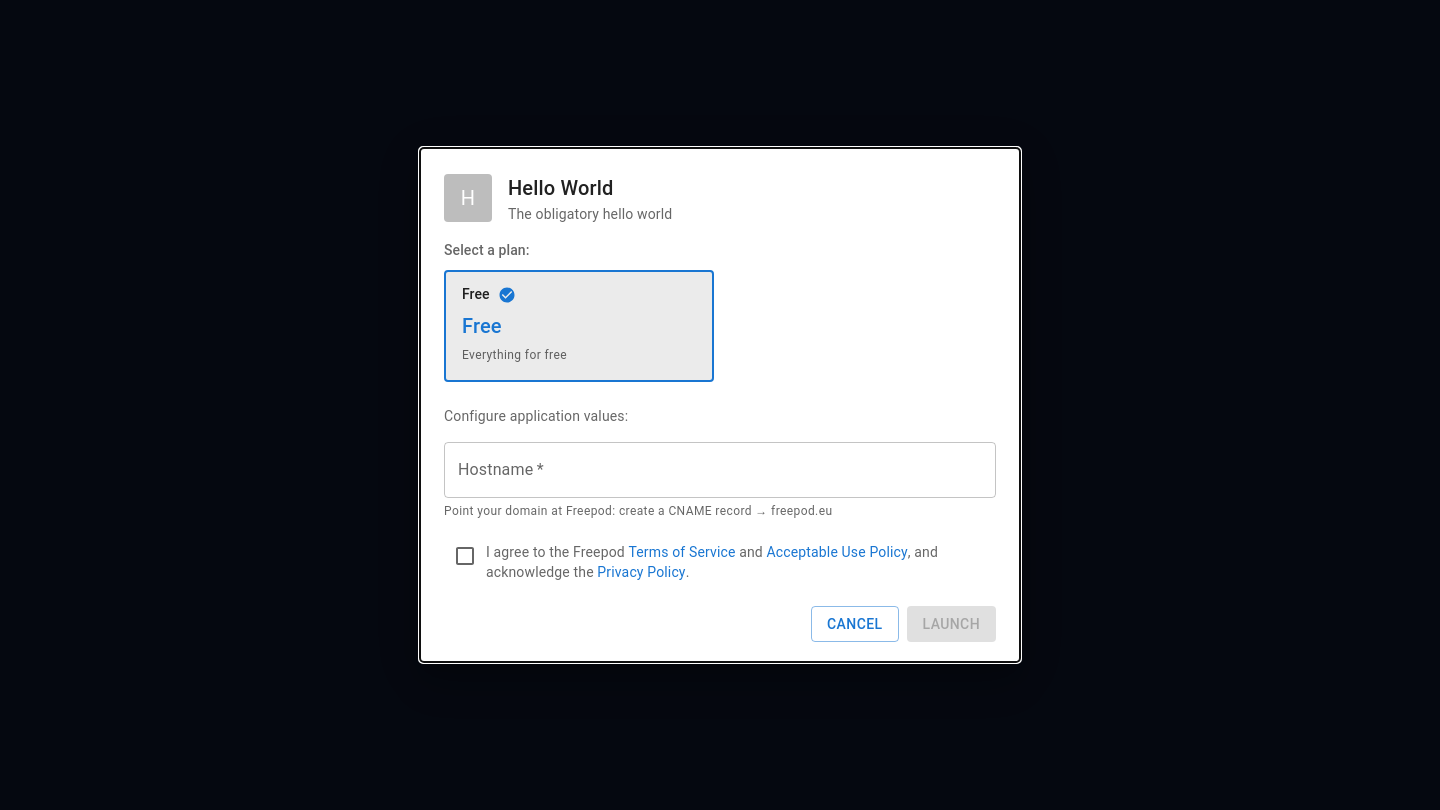
Test: DeployDialog › shows error alert on deployment failure
Expected: the text "Configure application values:" is shown, [444,408,628,424]
Type "test.example.com" into the field labelled "Hostname *".
click(720, 470); type("test.example.com")  # box [444,442,996,498]
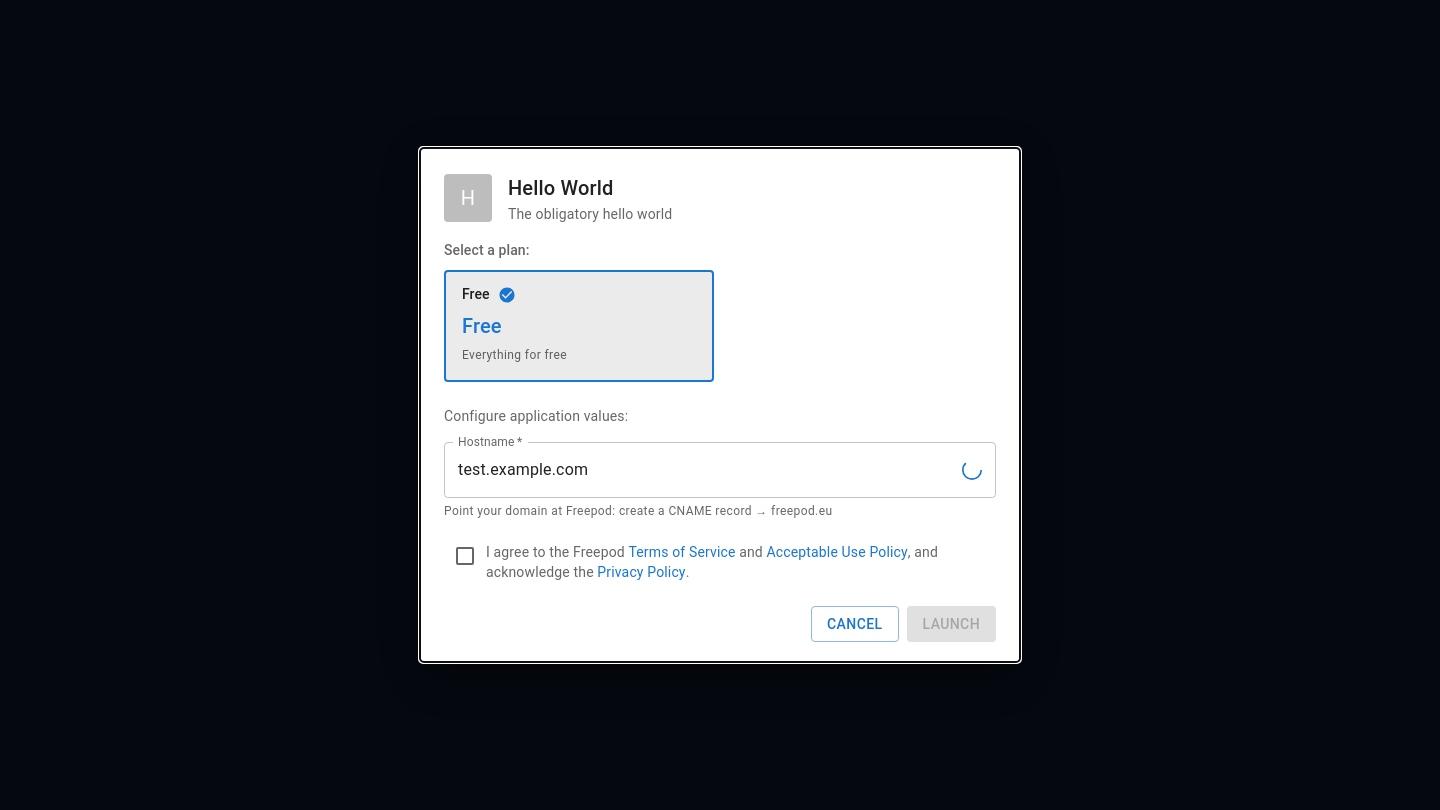
Click the checkbox.
click(720, 562)  # box [444,542,996,582]
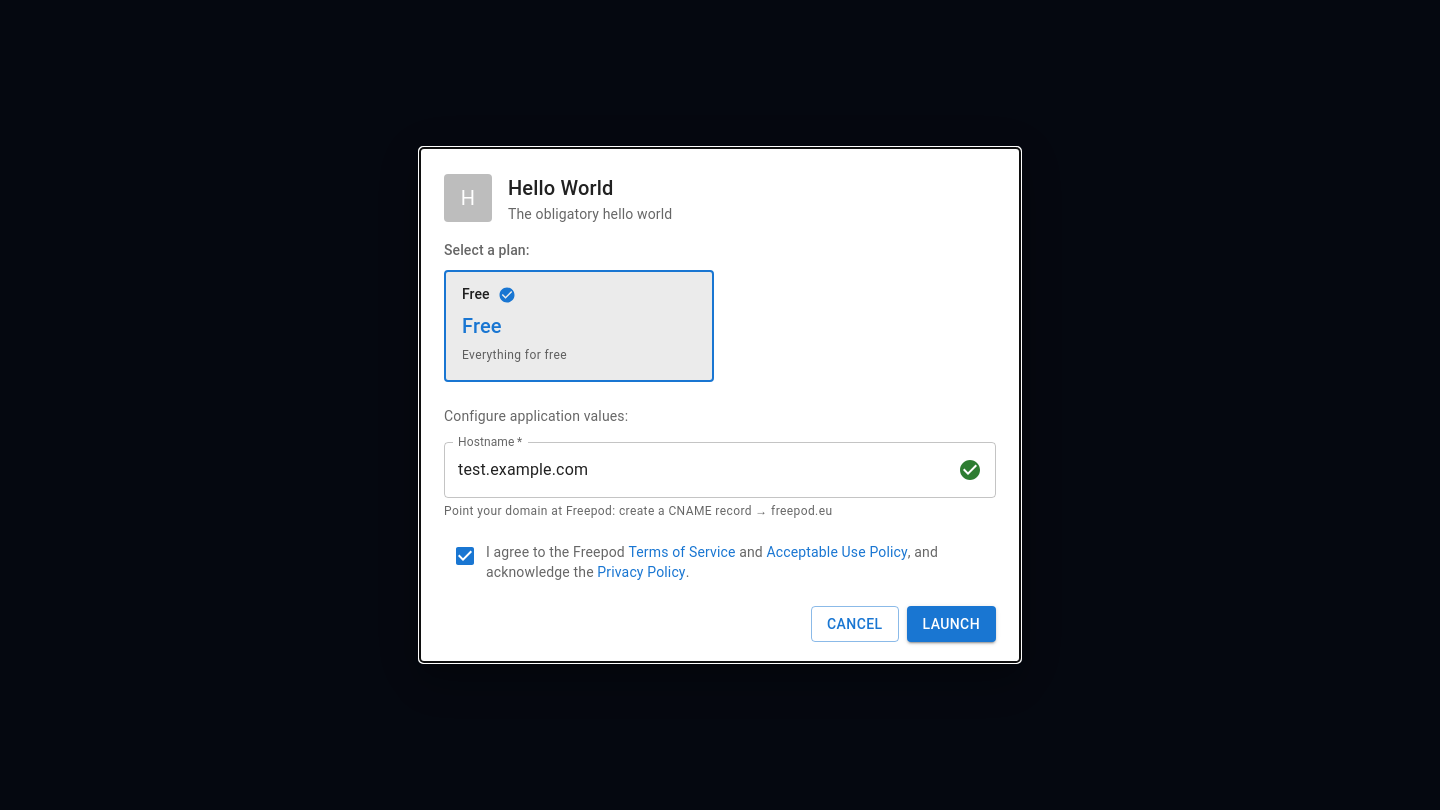
Now the button "Launch" is enabled
Click the button "Launch".
click(951, 624)  # box [906,606,996,642]
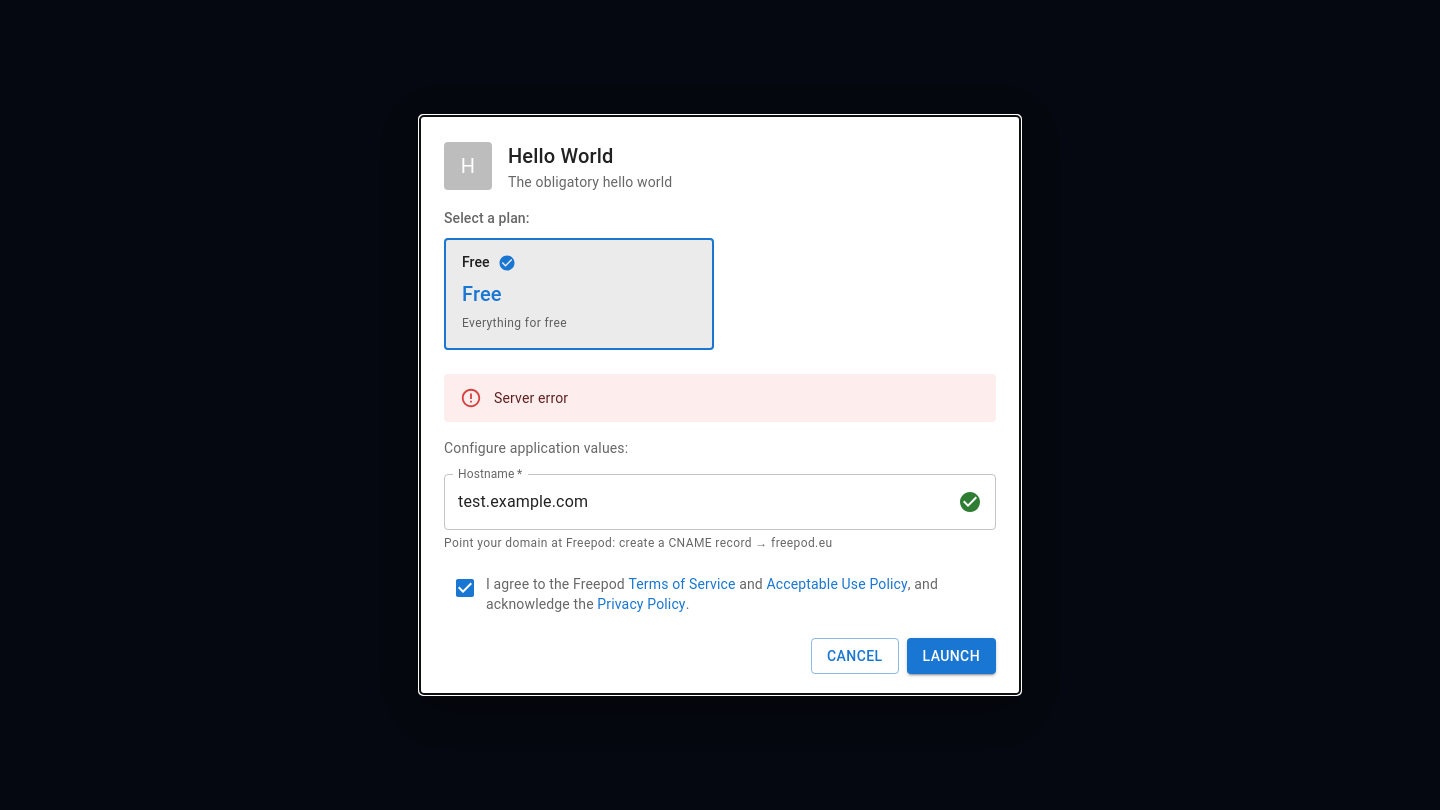
Now the text "Server error" is shown, box [494,390,568,406]
